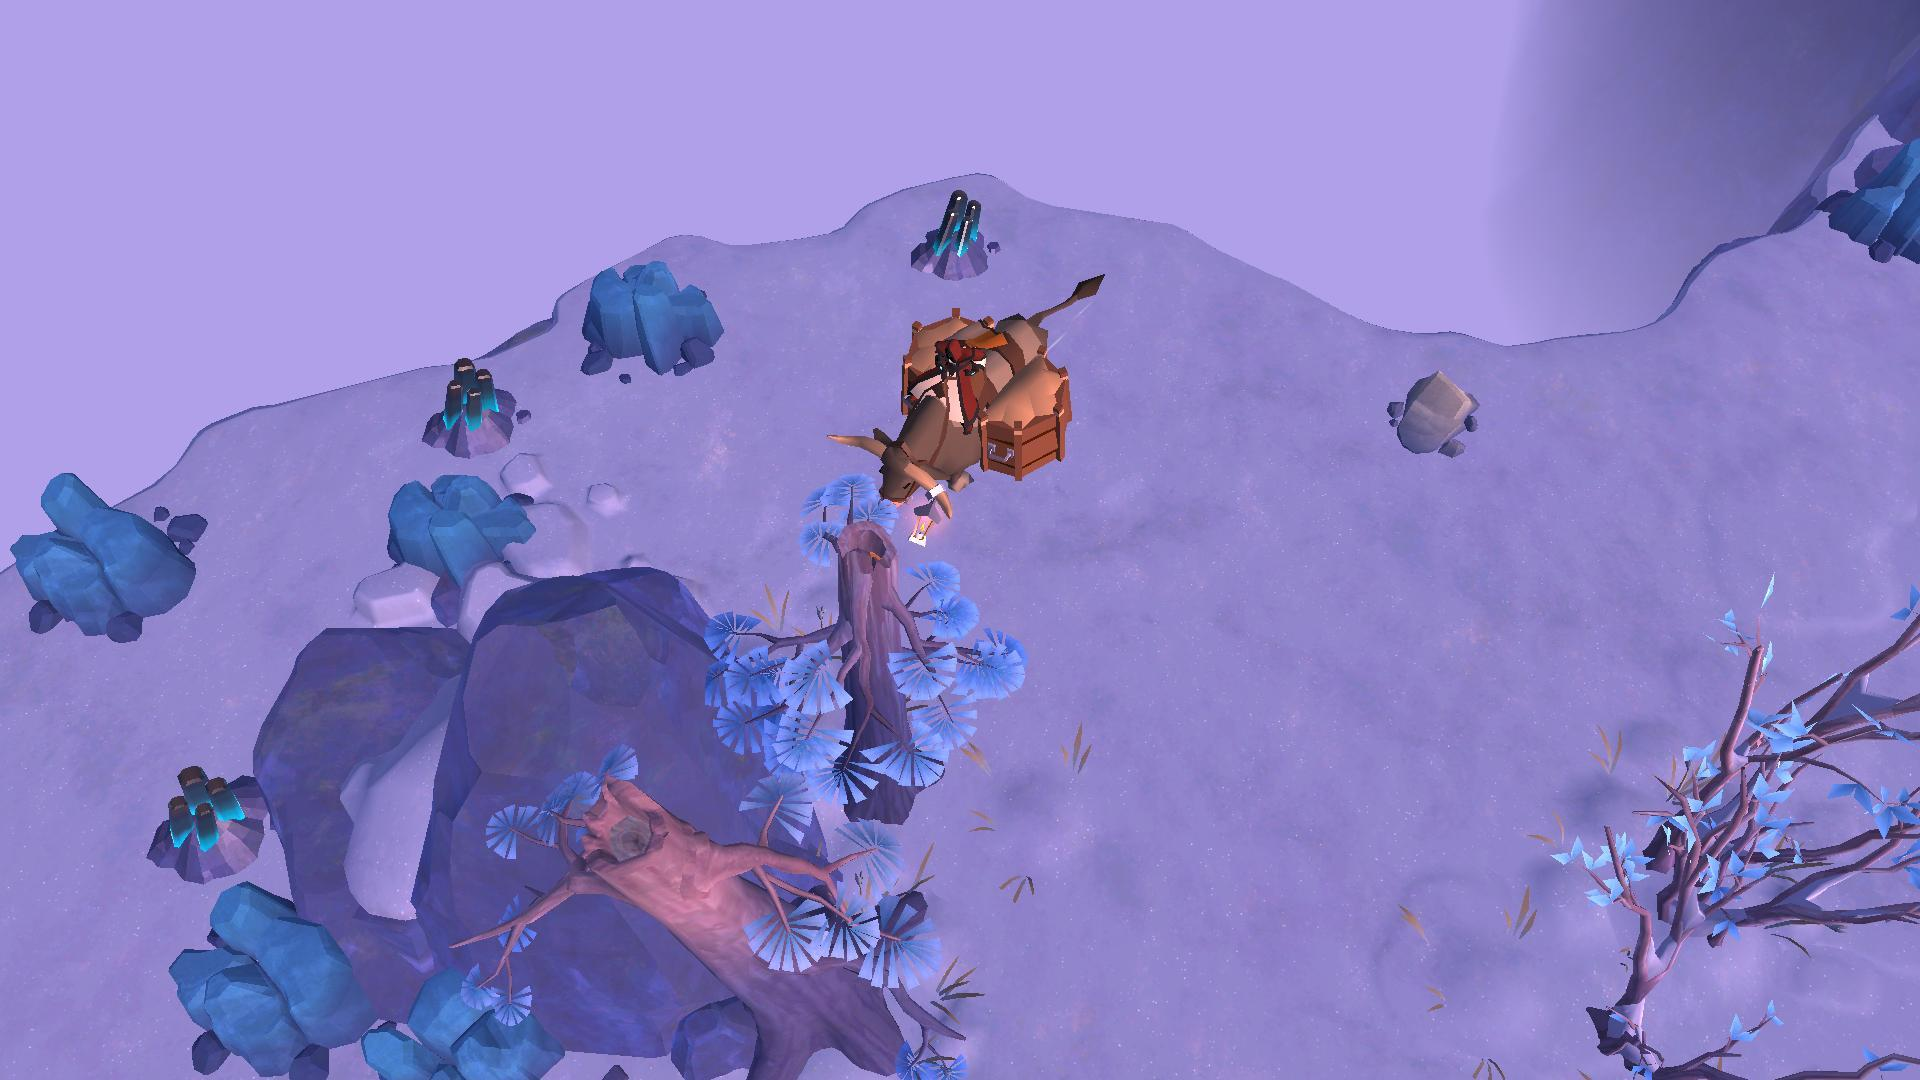ore_t4: (170, 758, 244, 857), (435, 351, 498, 433), (922, 187, 988, 260)
rock_t4: (13, 464, 218, 649), (181, 890, 372, 1079), (356, 969, 566, 1080), (382, 468, 545, 588), (570, 260, 728, 377), (1811, 140, 1920, 270)
